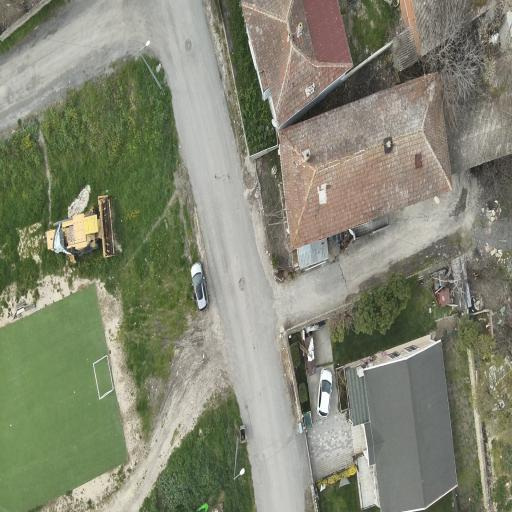car: (191, 263, 208, 310), (317, 368, 332, 417)
harvester: (47, 196, 115, 263)
